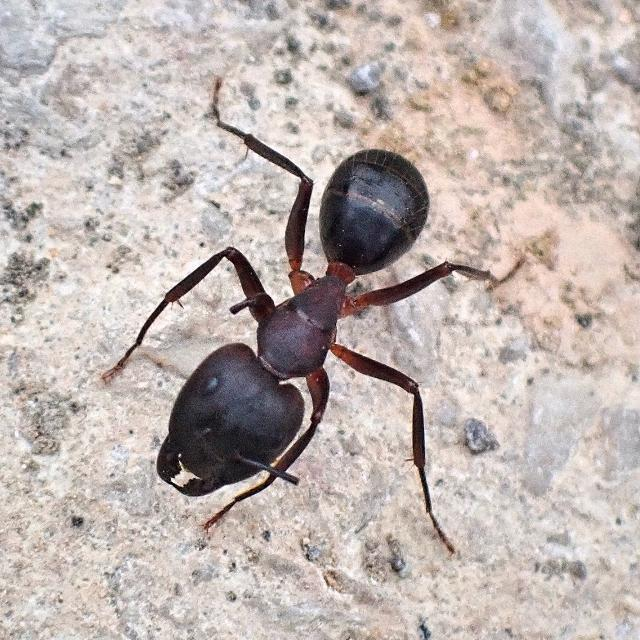Camponotus: (82, 80, 528, 566)
